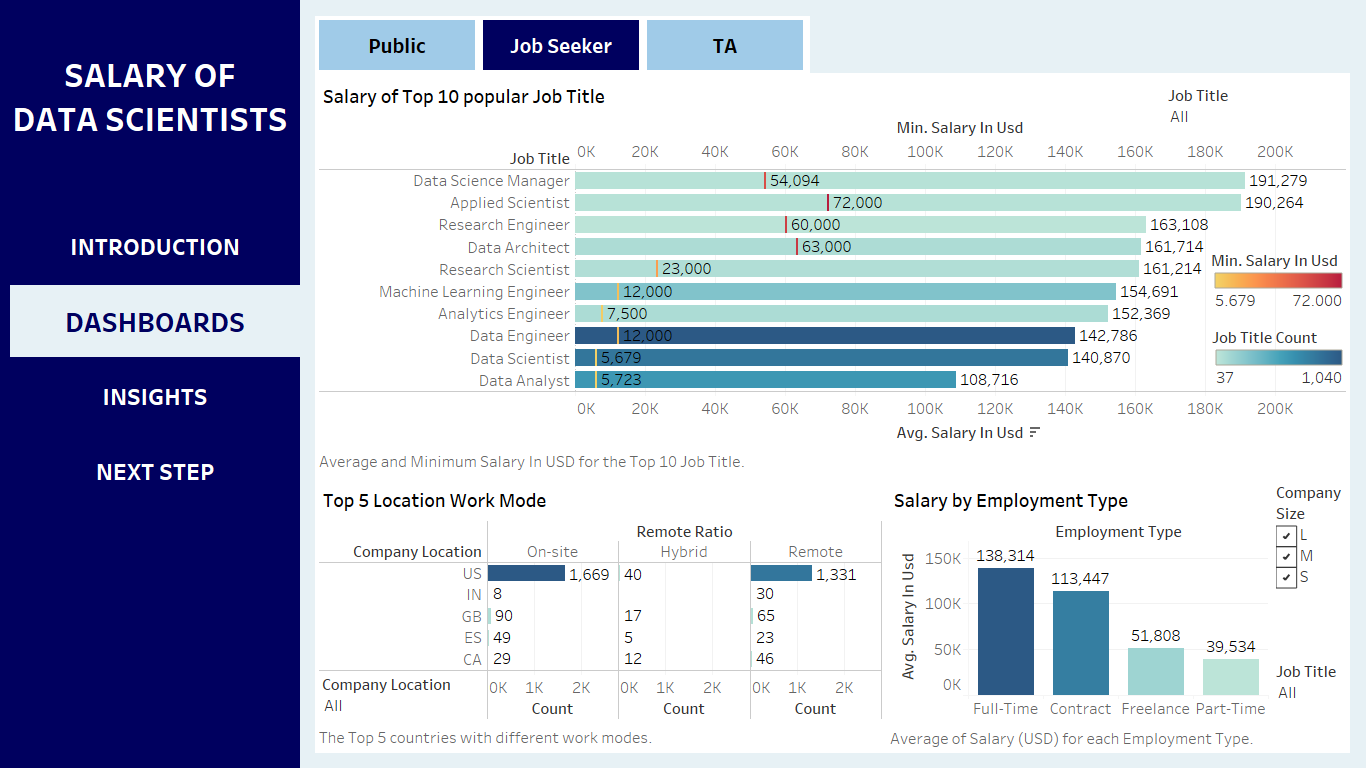

What the dashboard file says about the page in this screenshot:
{"tool":"tableau","page":{"name":"_dashboards_2","canvas":[1366,768],"ordinal":9},"visuals":[{"type":"dashboard-object","box":[315,16,164,58]},{"type":"dashboard-object","box":[479,16,164,58]},{"type":"dashboard-object","box":[643,16,164,58]},{"type":"text","box":[0,25,300,142]},{"type":"worksheet","title":"Avg min Salary of popular job title","mark":"GanttBar","rows":["job_title"],"cols":["salary_in_usd","salary_in_usd"],"box":[315,73,1035,404]},{"type":"filter","title":"Avg min Salary of popular job title","param":"[federated.1ubzi4w18pd77j1g8wl2v0i1bgqj].[none:job_title:nk]","box":[1168,84,168,48]},{"type":"text","box":[10,210,290,72]},{"type":"legend","title":"Avg min Salary of popular job title","param":"[federated.1ubzi4w18pd77j1g8wl2v0i1bgqj].[min:salary_in_usd:qk]","box":[1211,246,136,60]},{"type":"text","box":[10,285,290,72]},{"type":"legend","title":"Avg min Salary of popular job title","param":"[federated.1ubzi4w18pd77j1g8wl2v0i1bgqj].[cnt:job_title:qk]","box":[1212,323,135,65]},{"type":"text","box":[10,360,290,72]},{"type":"text","box":[10,435,290,72]},{"type":"worksheet","title":"Company vs remote","mark":"Bar","rows":["company_location"],"cols":["remote_ratio","remote_ratio"],"box":[315,477,571,276]},{"type":"worksheet","title":"employment type salary","mark":"Automatic","rows":["salary_in_usd"],"cols":["employment_type"],"box":[886,477,386,276]},{"type":"filter","title":"employment type salary","param":"[federated.1ubzi4w18pd77j1g8wl2v0i1bgqj].[none:company_size:nk]","box":[1272,477,78,179]},{"type":"filter","title":"employment type salary","param":"[federated.1ubzi4w18pd77j1g8wl2v0i1bgqj].[none:job_title:nk]","box":[1272,656,78,65]},{"type":"filter","title":"Company vs remote","param":"[federated.1ubzi4w18pd77j1g8wl2v0i1bgqj].[none:company_location:nk]","box":[322,673,154,47]},{"type":"filter","title":"Company vs remote","param":"[federated.1ubzi4w18pd77j1g8wl2v0i1bgqj].[none:job_title:nk]","box":[1272,721,78,32]}]}

Visuals, with their boxes in screenshot pixels (x1, y1, x2, y2), scaled from the page's 1366x768 canvas onto the 1366x768 screenshot:
dashboard-object: crop(315, 16, 479, 74)
dashboard-object: crop(479, 16, 643, 74)
dashboard-object: crop(643, 16, 807, 74)
text: crop(0, 25, 300, 167)
"Avg min Salary of popular job title" worksheet (GanttBar marks): crop(315, 73, 1350, 477)
"Avg min Salary of popular job title" filter: crop(1168, 84, 1336, 132)
text: crop(10, 210, 300, 282)
"Avg min Salary of popular job title" legend: crop(1211, 246, 1347, 306)
text: crop(10, 285, 300, 357)
"Avg min Salary of popular job title" legend: crop(1212, 323, 1347, 388)
text: crop(10, 360, 300, 432)
text: crop(10, 435, 300, 507)
"Company vs remote" worksheet (Bar marks): crop(315, 477, 886, 753)
"employment type salary" worksheet: crop(886, 477, 1272, 753)
"employment type salary" filter: crop(1272, 477, 1350, 656)
"employment type salary" filter: crop(1272, 656, 1350, 721)
"Company vs remote" filter: crop(322, 673, 476, 720)
"Company vs remote" filter: crop(1272, 721, 1350, 753)
